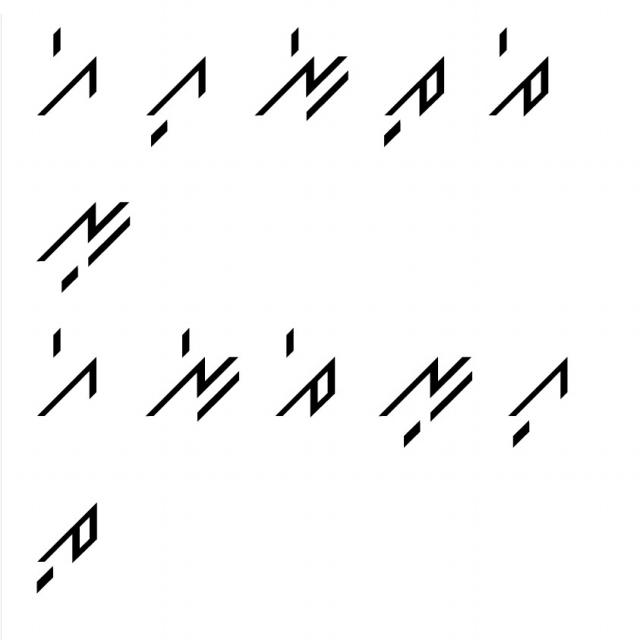ge: (30, 26, 109, 125), (32, 322, 104, 418)
gu: (142, 49, 214, 153), (506, 346, 578, 450)
nge: (134, 318, 246, 424), (256, 15, 351, 128)
ngu: (31, 188, 139, 296), (371, 340, 476, 450)
te: (270, 324, 348, 429), (487, 23, 557, 121)
tu: (368, 52, 447, 150), (35, 498, 110, 598)
